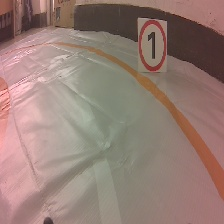limit: (135, 15, 171, 75)
